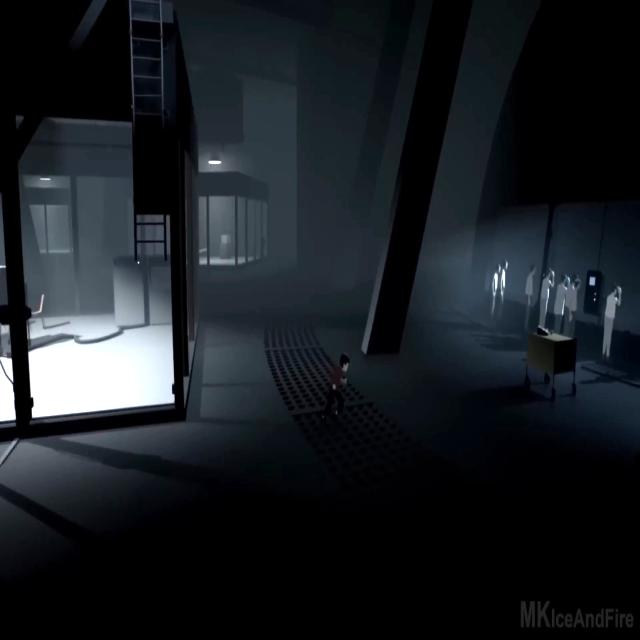boy: (320, 352, 350, 421)
human: (602, 286, 622, 358), (539, 267, 554, 329), (555, 272, 569, 334), (525, 264, 536, 333), (488, 264, 500, 321), (570, 274, 582, 331), (500, 260, 508, 321)
